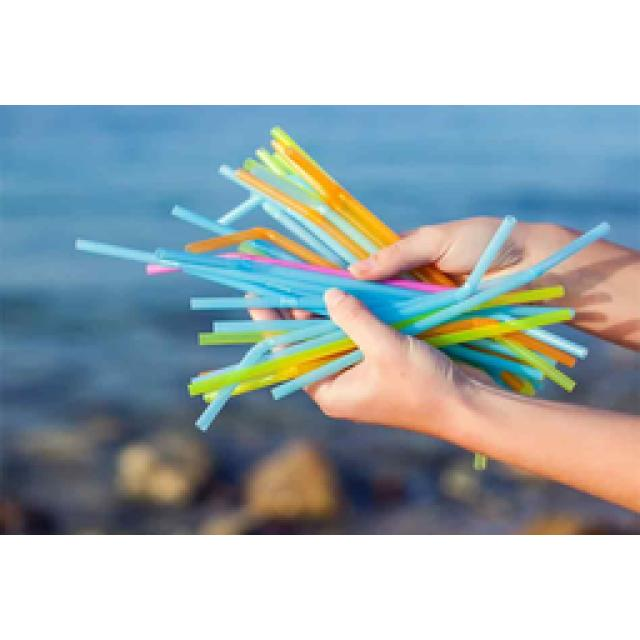plastic: (70, 122, 610, 432)
